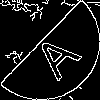A: (25, 25, 83, 82)
